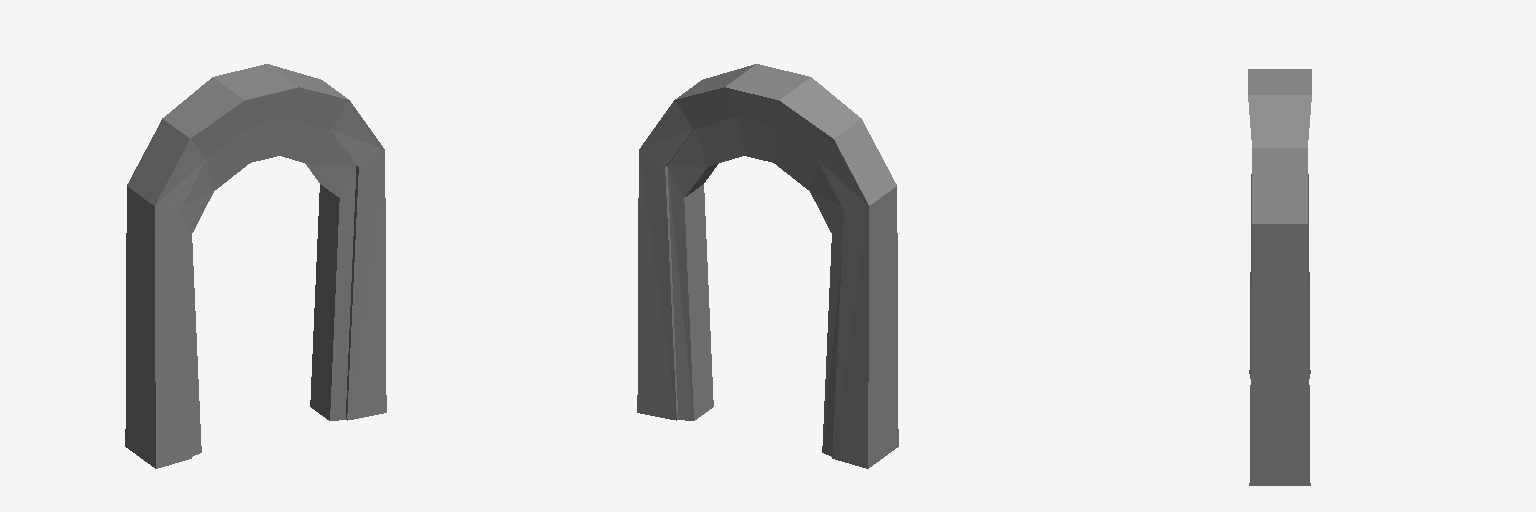
The model's file is arc.obj.
The picture shows the model from 3 angles: view 1: azimuth 30°, elevation 25°; view 2: azimuth 150°, elevation 25°; view 3: azimuth 270°, elevation 25°; orthographic projection.
Parts seen in each view (by area): view 1: Grim_Bear_Arc; view 2: Grim_Bear_Arc; view 3: Grim_Bear_Arc.
Part boxes in pixels (x1,y1,x2,y2): Grim_Bear_Arc: (125, 64, 386, 468); Grim_Bear_Arc: (637, 64, 898, 468); Grim_Bear_Arc: (1248, 69, 1311, 485).
Size of the model in its own units: 20.28 by 29.22 by 4.88.